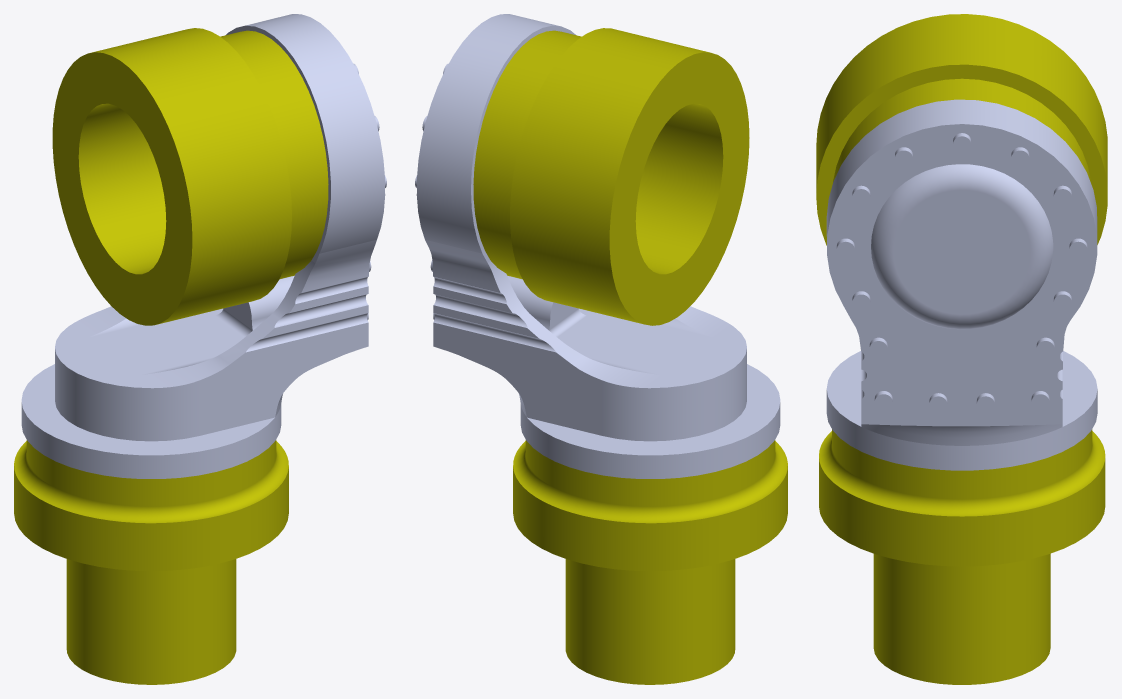
3 views of the same model, side by side, from view 1: azimuth 30°, elevation 25°; view 2: azimuth 150°, elevation 25°; view 3: azimuth 270°, elevation 25° (orthographic). The views are drawn at different scales.
Parts seen in each view (by area): view 1: Actor0; view 2: Actor0; view 3: Actor0.
Boxes of the visible parts, box(x1,y1,x2,y2) form: Actor0: box(14, 14, 386, 684); Actor0: box(415, 14, 787, 684); Actor0: box(816, 14, 1107, 684).
Size of the model in its own units: 0.138 by 0.2622 by 0.1119.
